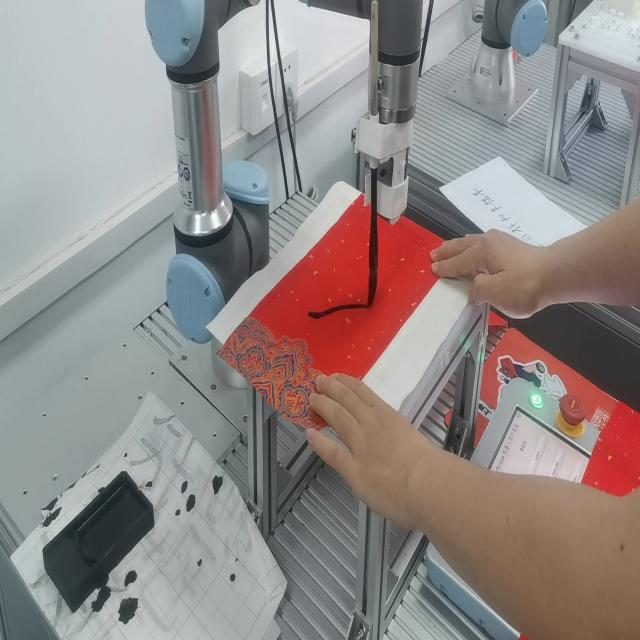head: (368, 259, 378, 307)
inkstone: (41, 470, 156, 611)
writing-brush: (365, 0, 378, 306)
